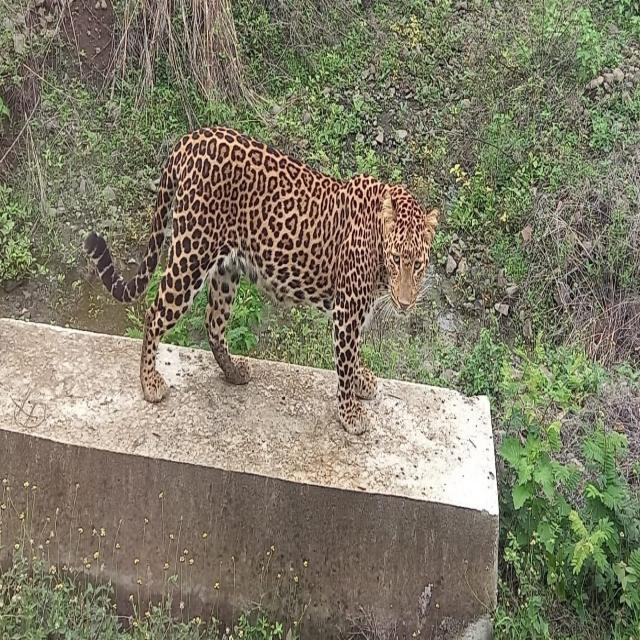Leopard: (78, 121, 439, 436)
